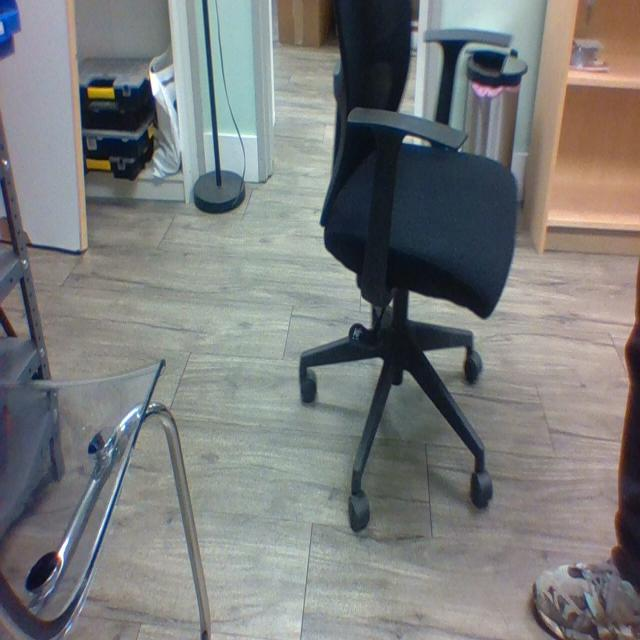black-chair: (303, 2, 501, 532)
